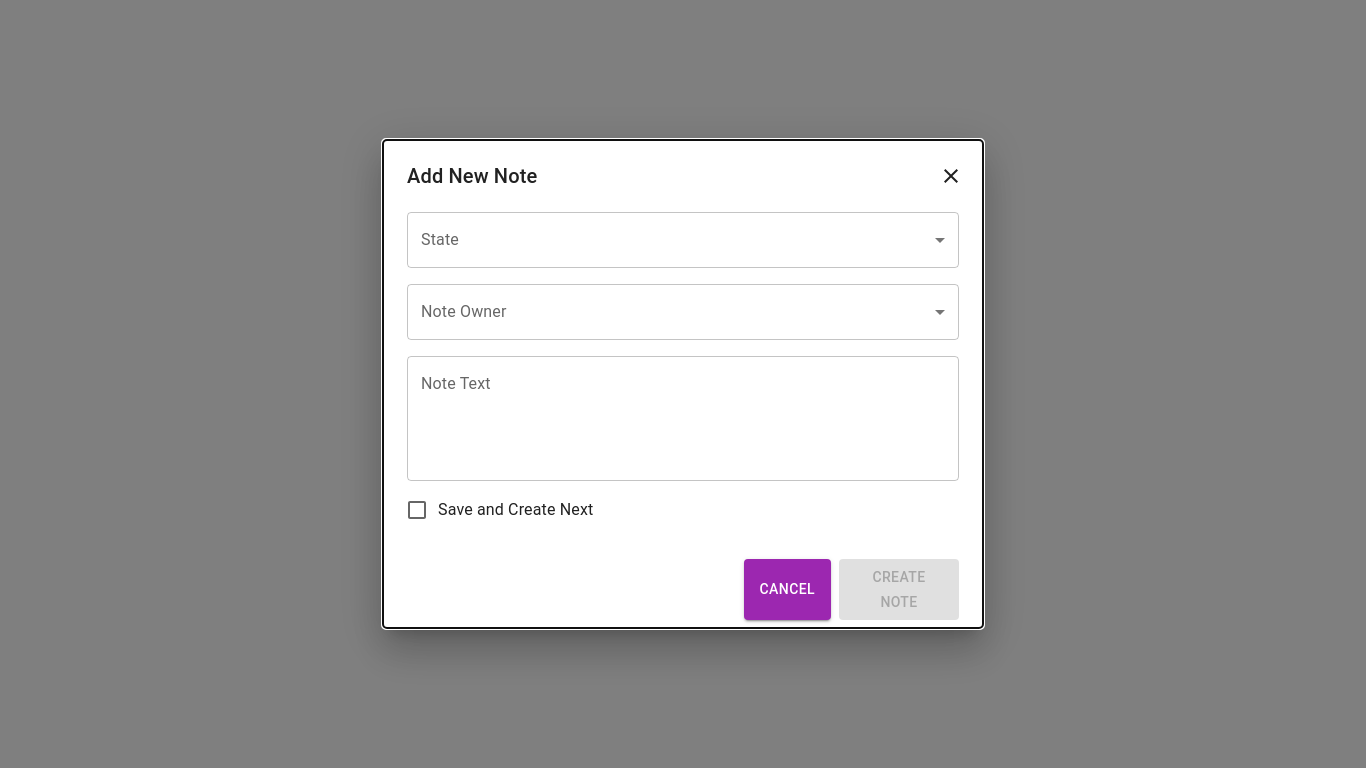
AddNewNoteModal › Form field interactions › allows selecting a state
Click the dropdown named "State" next to "State".
click(683, 240)  # box [407,212,959,268]
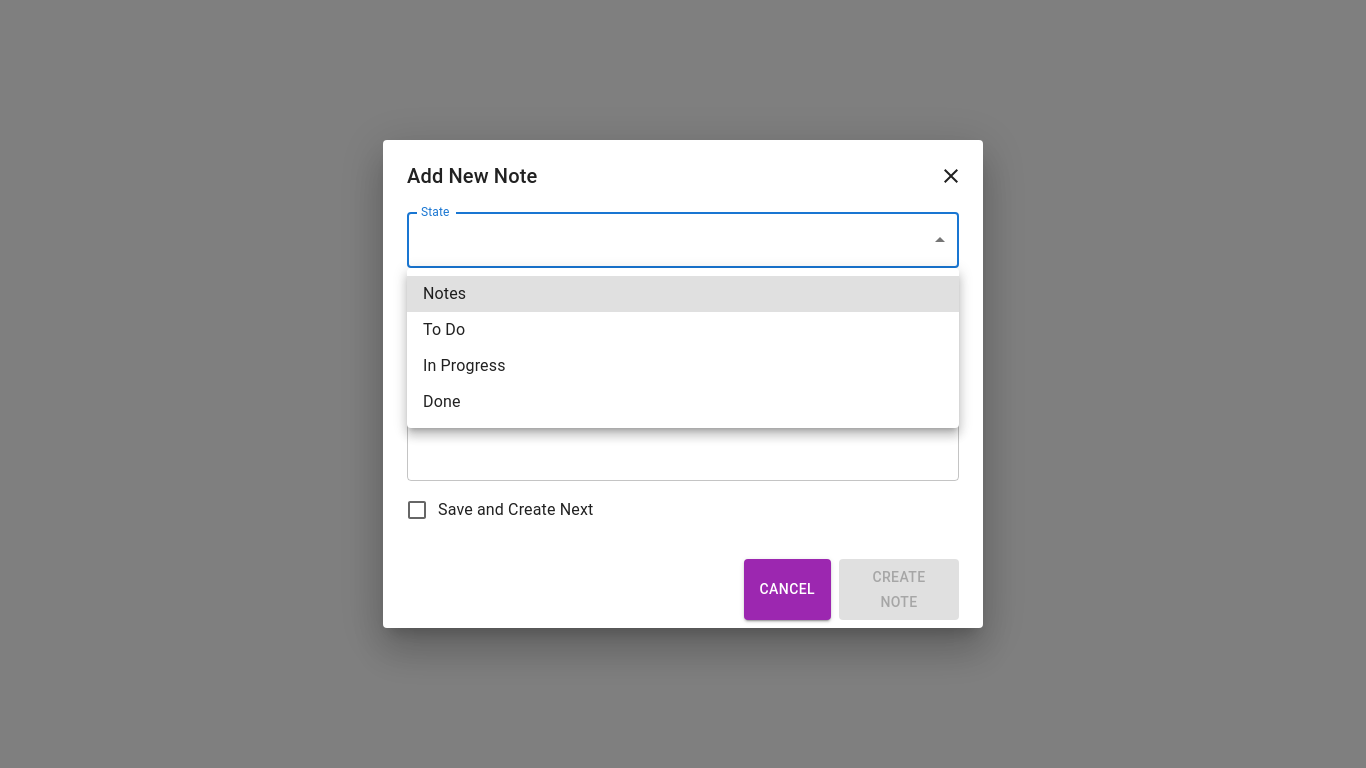
Click the option "To Do".
click(444, 330)  # box [423,320,465,339]
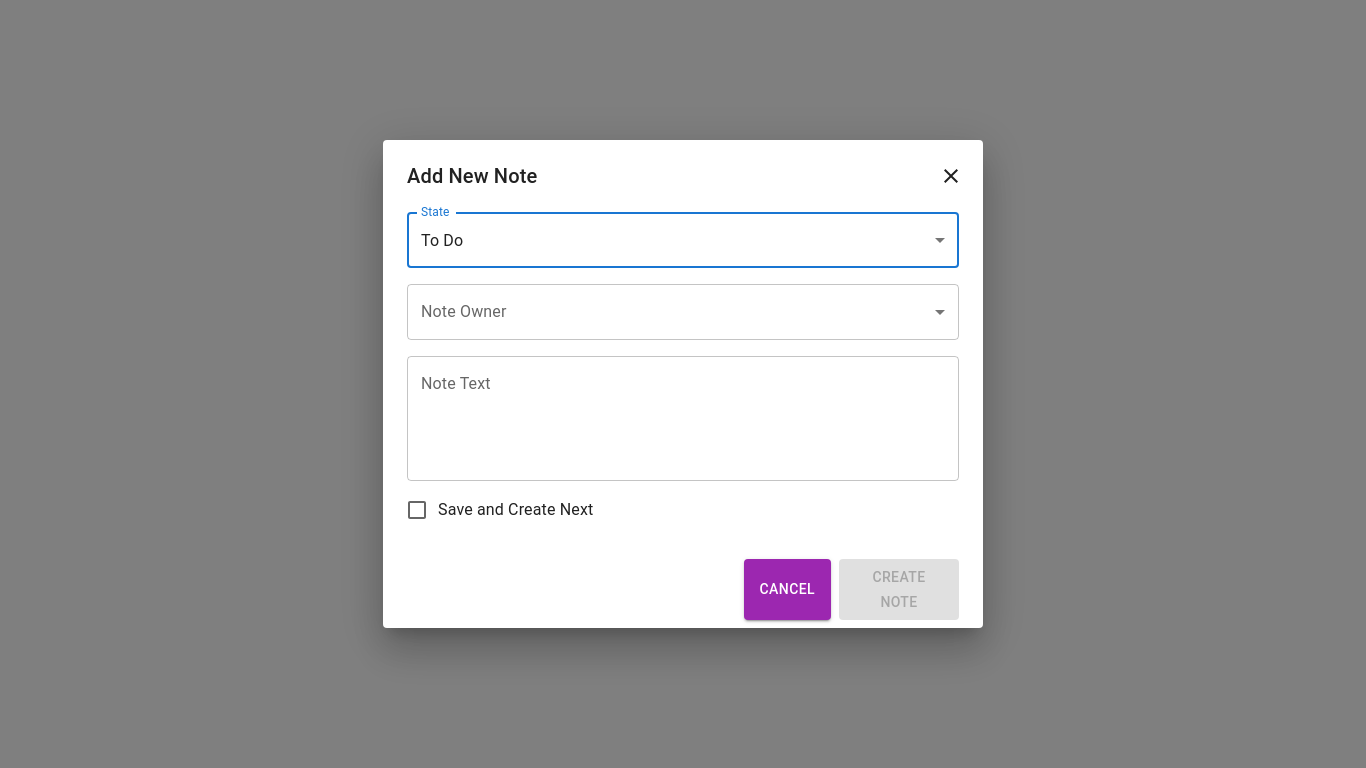
Expected: the dropdown named "State" reads "To Do", [421,230,463,250]
